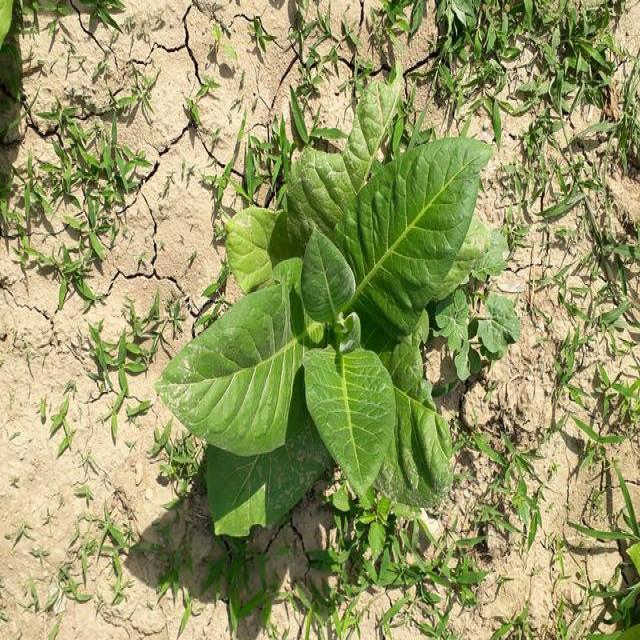crop: (178, 97, 466, 536)
